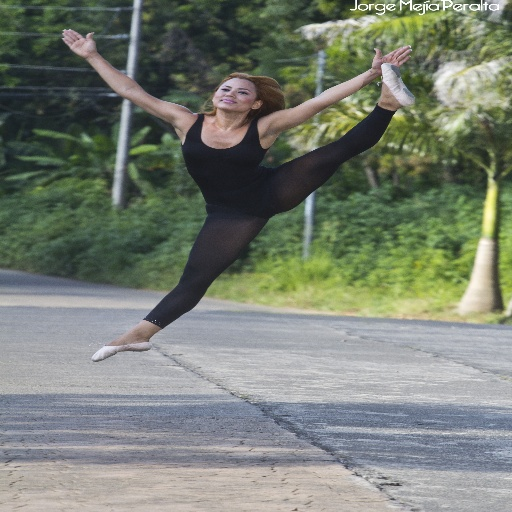hand: (45, 20, 103, 59), (366, 44, 413, 78)
